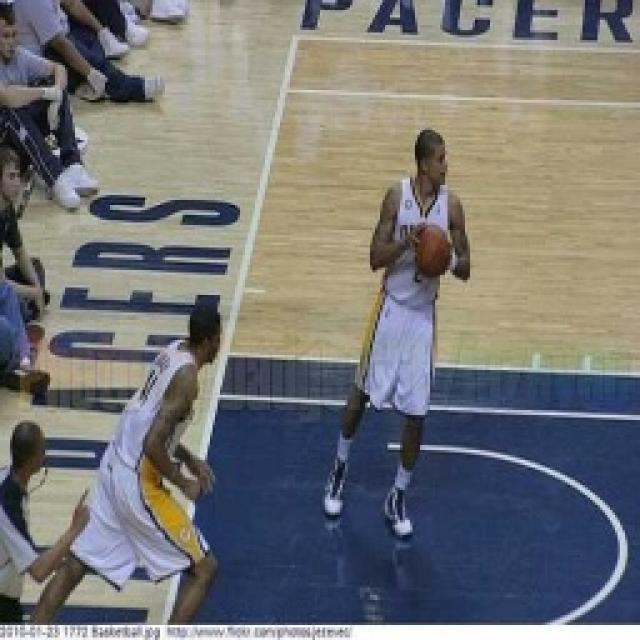rim: (413, 218, 450, 284)
